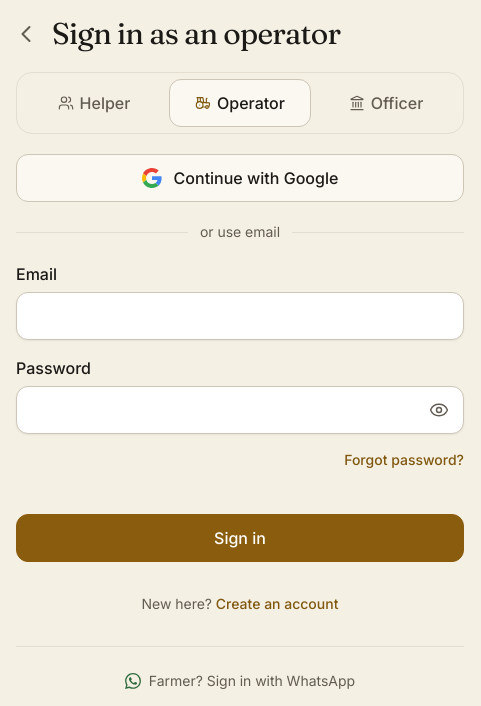
Test: staff sign-in card › the role picker is preset from the address and switches in place: title, Google, address, memory
This screenshot has width=481, height=706.
Click the radio button named "Agriculture officer": (386, 103) [315,79,457,127]
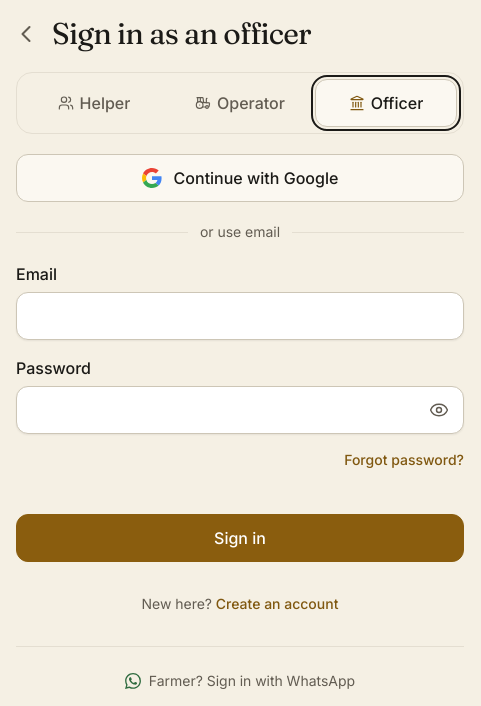
Result: the heading "Sign in as an officer" is shown at [52,15,311,53]
